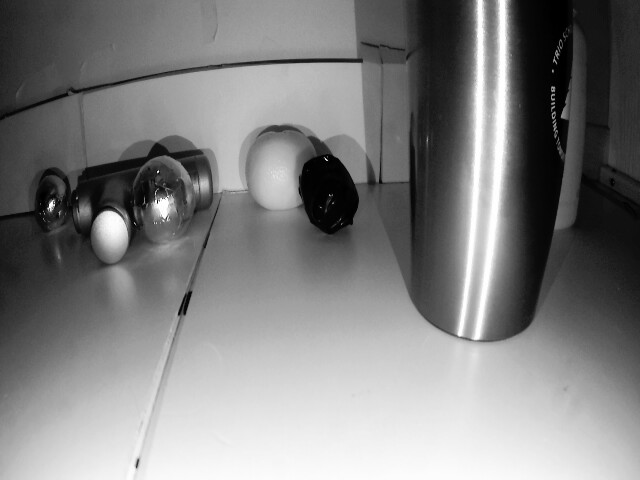black: (294, 148, 359, 238)
silver: (129, 157, 200, 244), (33, 171, 74, 223)
